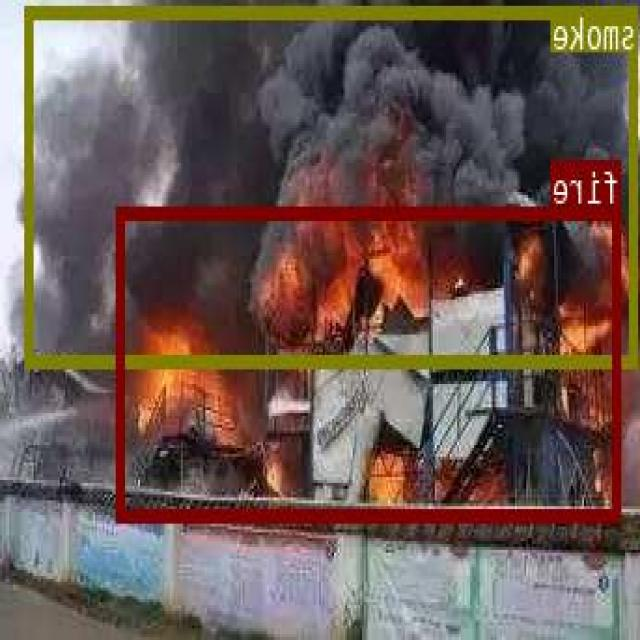fire: (118, 205, 622, 520)
smoke: (28, 4, 639, 364)
